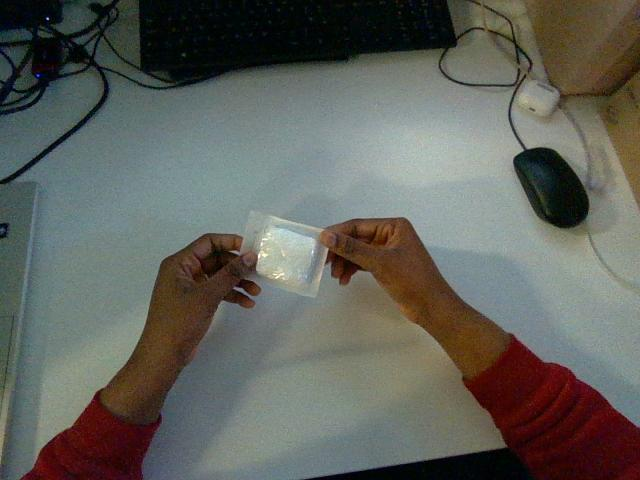gauze: (240, 211, 327, 296)
